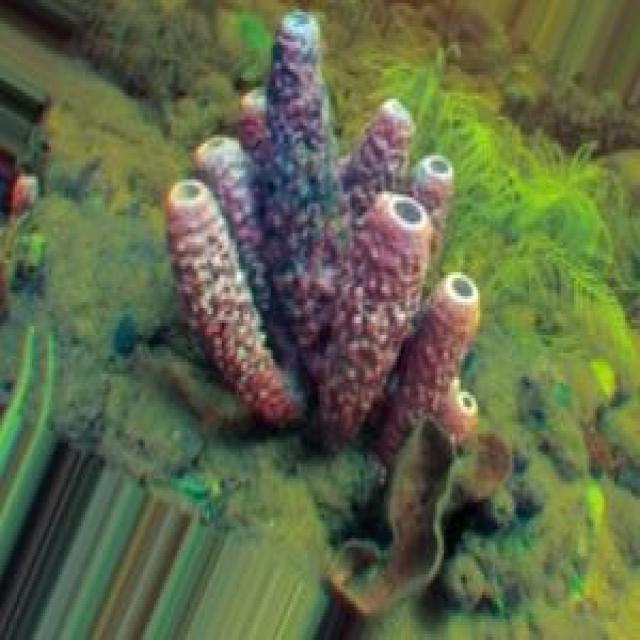Healthy: (170, 16, 504, 614)
